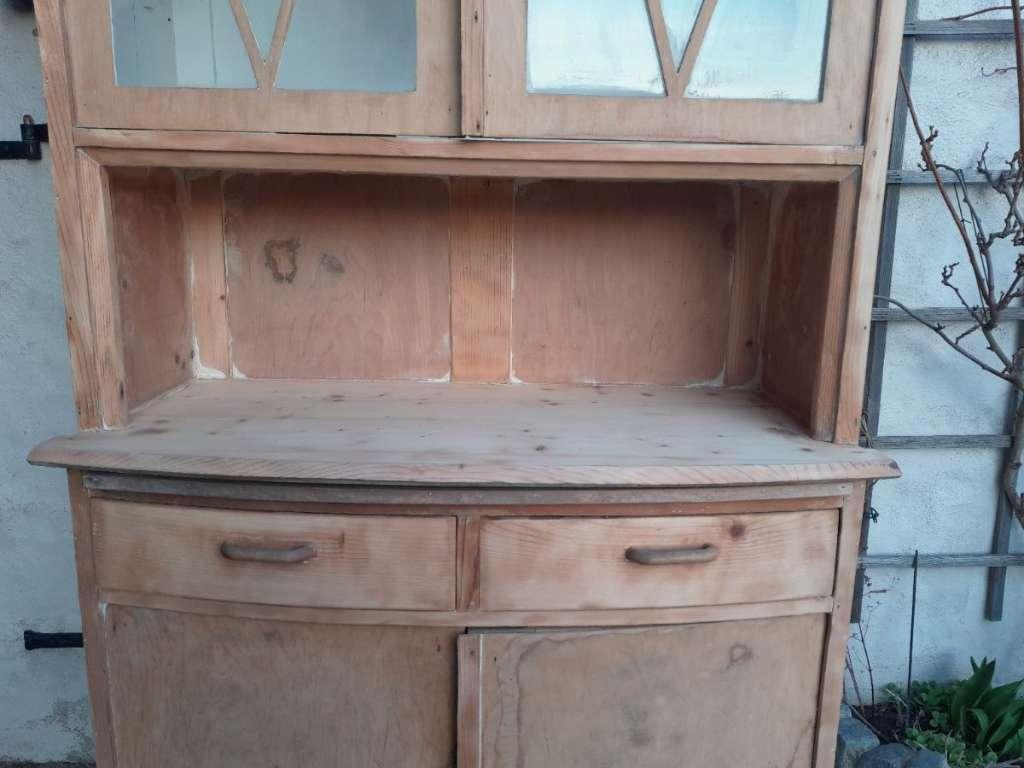cabinet_door: (93, 507, 454, 605), (477, 511, 840, 608)
handle: (214, 535, 321, 572), (621, 537, 721, 572)
